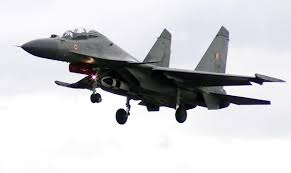maybay_muctieu: (15, 24, 276, 125)
